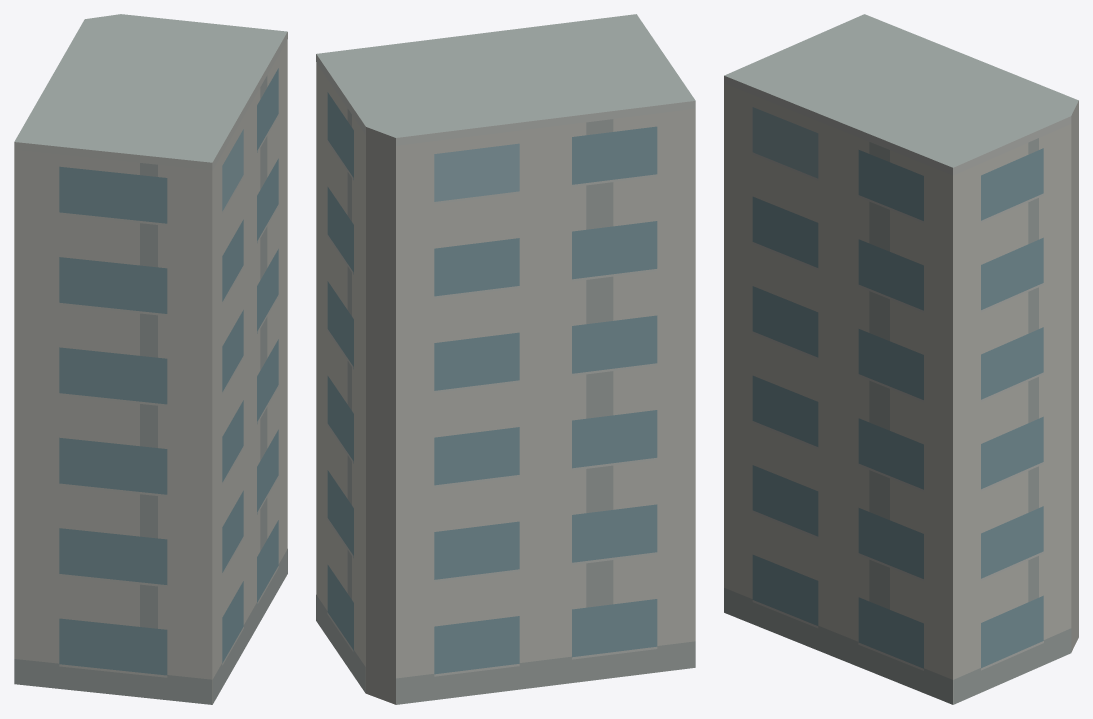
The model's file is survey-upis-32489457.glb.
3 views of the same model, side by side, from view 1: azimuth 30°, elevation 25°; view 2: azimuth 150°, elevation 25°; view 3: azimuth 270°, elevation 25° (orthographic). The views are drawn at different scales.
Parts seen in each view (by area): view 1: survey-upis-32489457.tmp; view 2: survey-upis-32489457.tmp; view 3: survey-upis-32489457.tmp.
Part boxes in pixels (x1,y1,x2,y2): survey-upis-32489457.tmp: [14, 14, 287, 704]; survey-upis-32489457.tmp: [316, 14, 695, 704]; survey-upis-32489457.tmp: [724, 14, 1078, 704].
Size of the model in its own units: 10.51 by 17.1 by 10.24.
